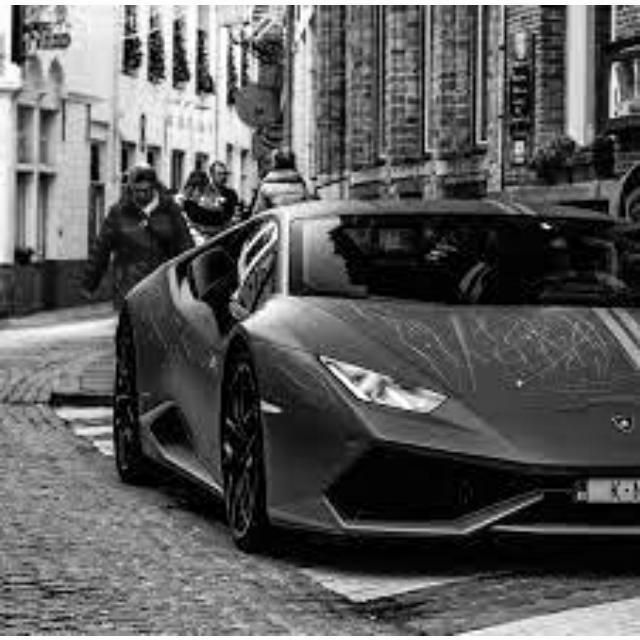bonnet-dent: (264, 287, 637, 437)
